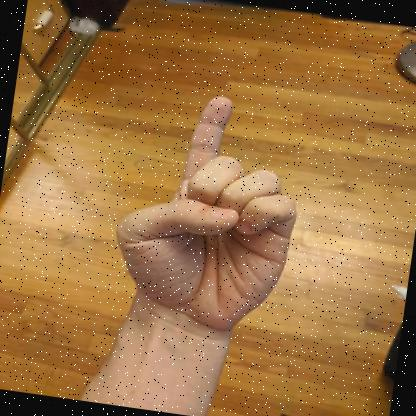D: (116, 96, 296, 336)
